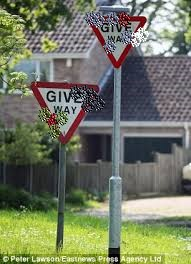giveway: (31, 79, 101, 144), (86, 15, 150, 69), (51, 81, 87, 142), (88, 26, 139, 68), (108, 14, 135, 71)
